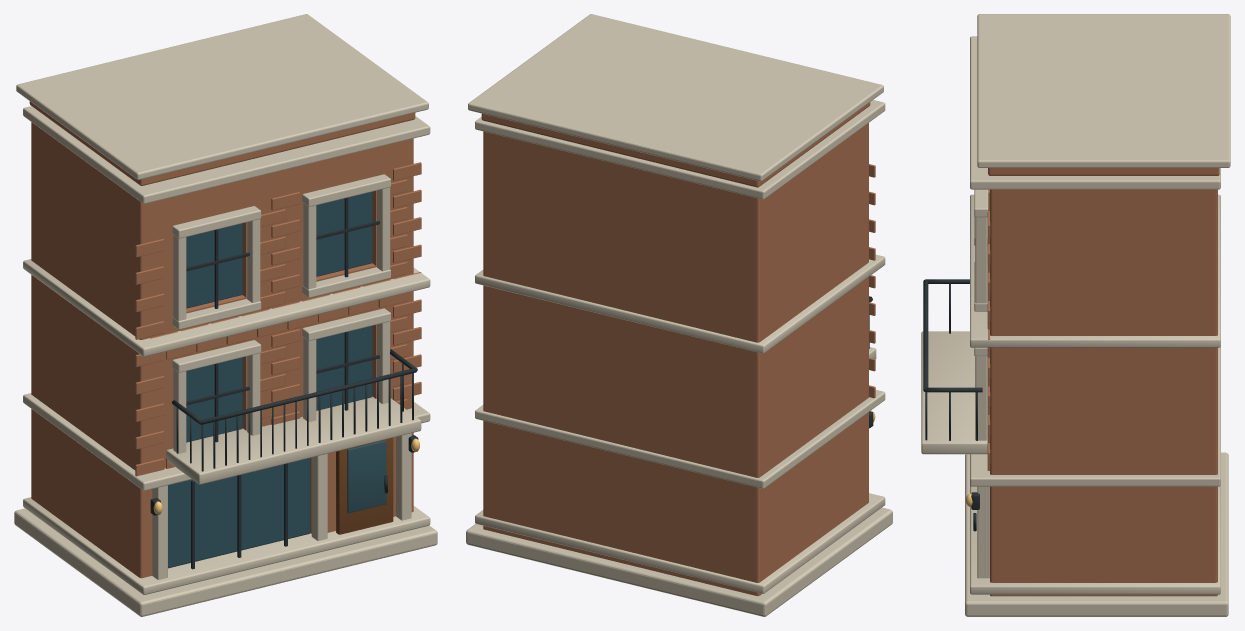
The model's file is asset.glb.
3 views of the same model, side by side, from view 1: azimuth 30°, elevation 25°; view 2: azimuth 150°, elevation 25°; view 3: azimuth 270°, elevation 25° (orthographic). The views are drawn at different scales.
Visible parts, largest first — view 1: facade, roof_cap, shop_window, foundation, balcony_floor, cornice, base_course, middle_course, upper_window_left, upper_window_right, window_right, window_left (+22 smaller); view 2: facade, roof_cap, foundation, cornice, base_course, middle_course, shop_header, parapet; view 3: facade, roof_cap, foundation, balcony_floor, cornice, middle_course, base_course, shop_header, parapet, shop_pier_507, upper_window_right_jamb_right, window_right_jamb_right (+1 smaller).
Boxes of the visible parts, <box> form: facade: <box>31,122,413,578</box>; roof_cap: <box>16,14,428,179</box>; shop_window: <box>168,458,310,568</box>; foundation: <box>14,508,437,616</box>; balcony_floor: <box>166,396,421,484</box>; cornice: <box>23,106,430,203</box>; base_course: <box>23,497,430,594</box>; middle_course: <box>23,259,430,356</box>; upper_window_left: <box>186,223,242,308</box>; upper_window_right: <box>316,192,372,276</box>; window_right: <box>316,326,372,410</box>; window_left: <box>186,357,242,442</box>; facade: <box>483,123,868,596</box>; roof_cap: <box>468,14,883,181</box>; foundation: <box>466,507,892,616</box>; cornice: <box>475,100,885,199</box>; base_course: <box>475,493,885,593</box>; middle_course: <box>475,254,885,353</box>; shop_header: <box>475,390,885,488</box>; parapet: <box>481,102,870,187</box>; facade: <box>990,189,1217,596</box>; roof_cap: <box>977,14,1230,167</box>; foundation: <box>965,452,1228,616</box>; balcony_floor: <box>921,331,987,454</box>; cornice: <box>970,36,1220,189</box>; middle_course: <box>970,194,1220,347</box>; base_course: <box>970,485,1220,594</box>; shop_header: <box>970,346,1220,486</box>; parapet: <box>988,168,1219,175</box>; shop_pier_507: <box>977,486,989,578</box>; upper_window_right_jamb_right: <box>975,217,987,303</box>; window_right_jamb_right: <box>975,356,987,440</box>.
Size of the model in its own units: 5 by 7.05 by 4.33.
